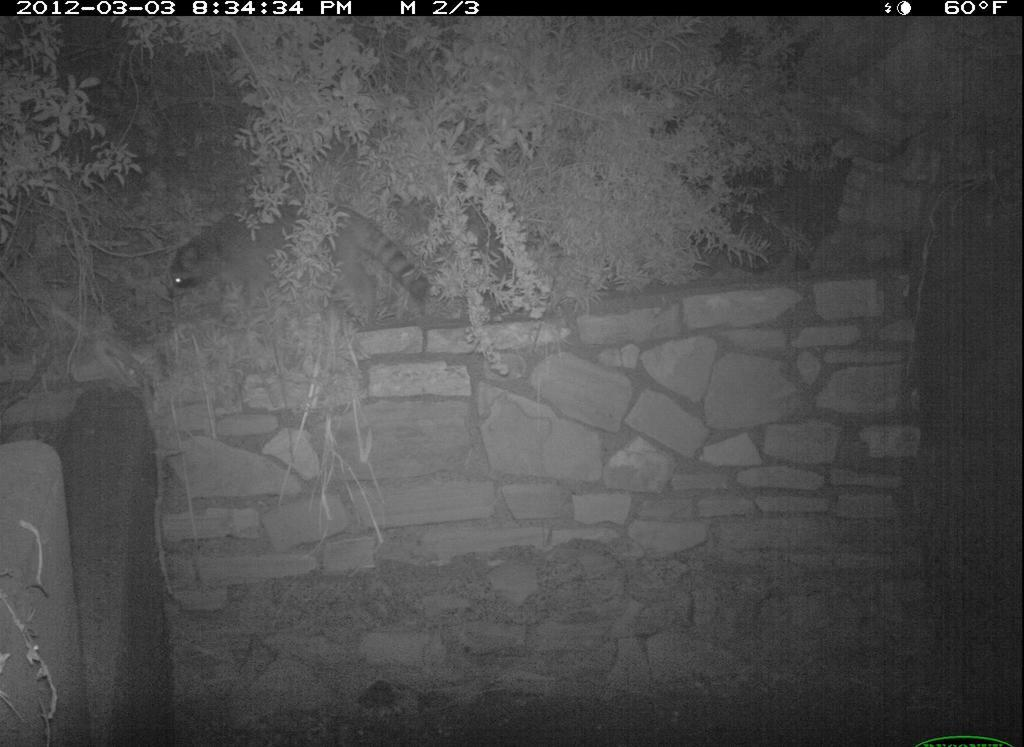raccoon: (161, 200, 437, 328)
